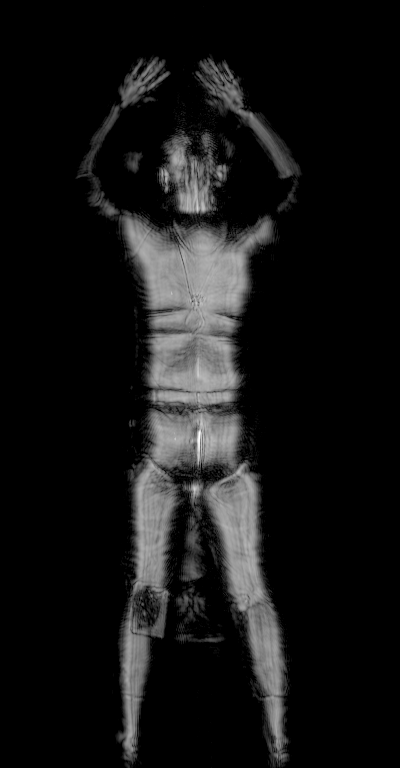head: (152, 126, 233, 202)
others: (126, 578, 172, 641)
person: (75, 55, 303, 768)
